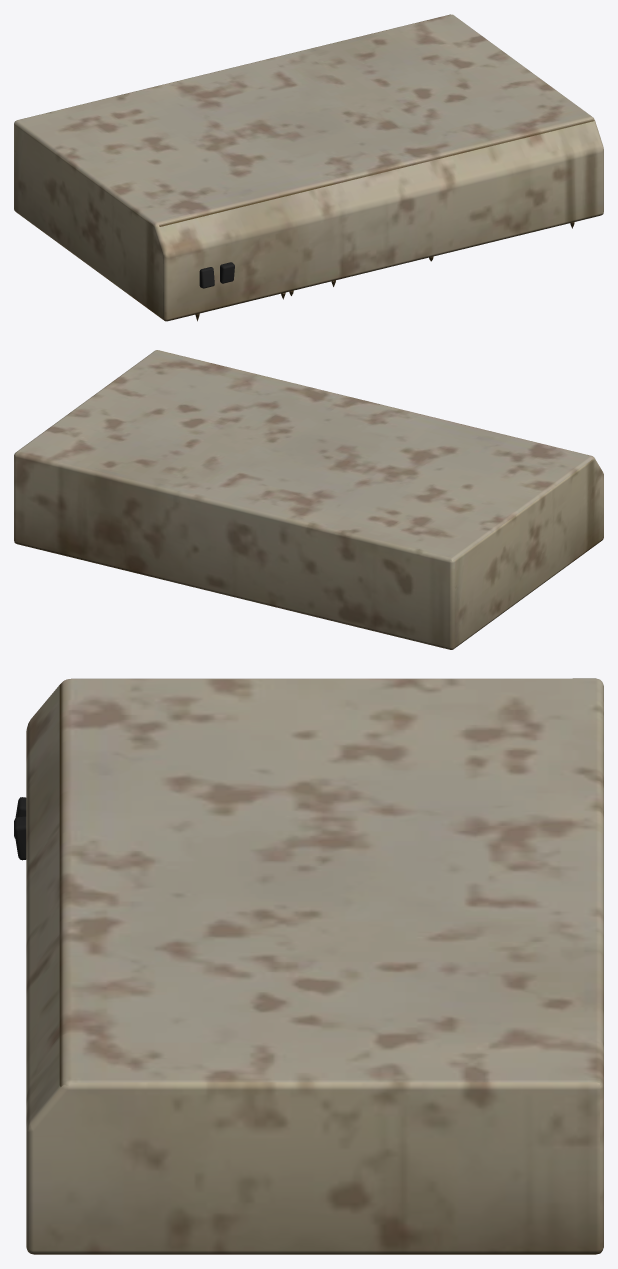
File: range_hood.glb
3 views of the same model, one above another, from view 1: azimuth 30°, elevation 25°; view 2: azimuth 150°, elevation 25°; view 3: azimuth 270°, elevation 25° (orthographic). The views are drawn at different scales.
Visible parts, largest first — view 1: range_hood; view 2: range_hood; view 3: range_hood.
Part boxes in pixels (x1,y1,x2,y2): range_hood: [14, 14, 603, 321]; range_hood: [14, 350, 603, 649]; range_hood: [14, 678, 603, 1254].
Size of the model in its own units: 0.7622 by 0.165 by 0.4668.
6 materials, 1 textured.
